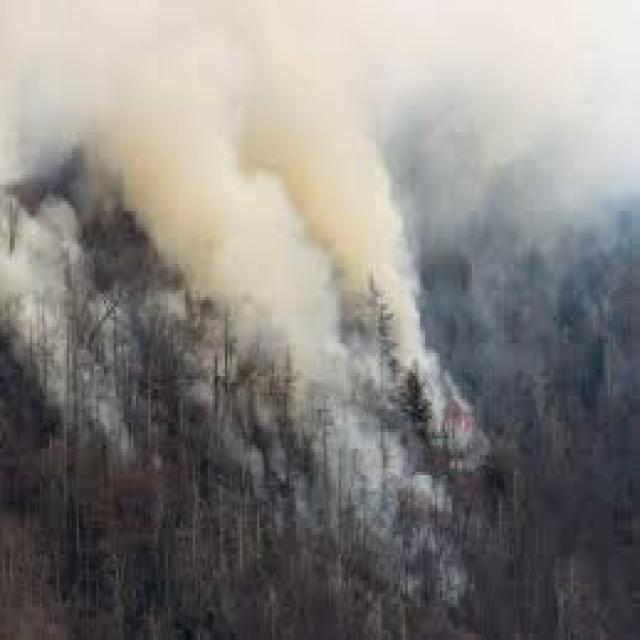Smoke: (2, 1, 424, 392), (431, 3, 640, 413), (232, 404, 427, 601)
